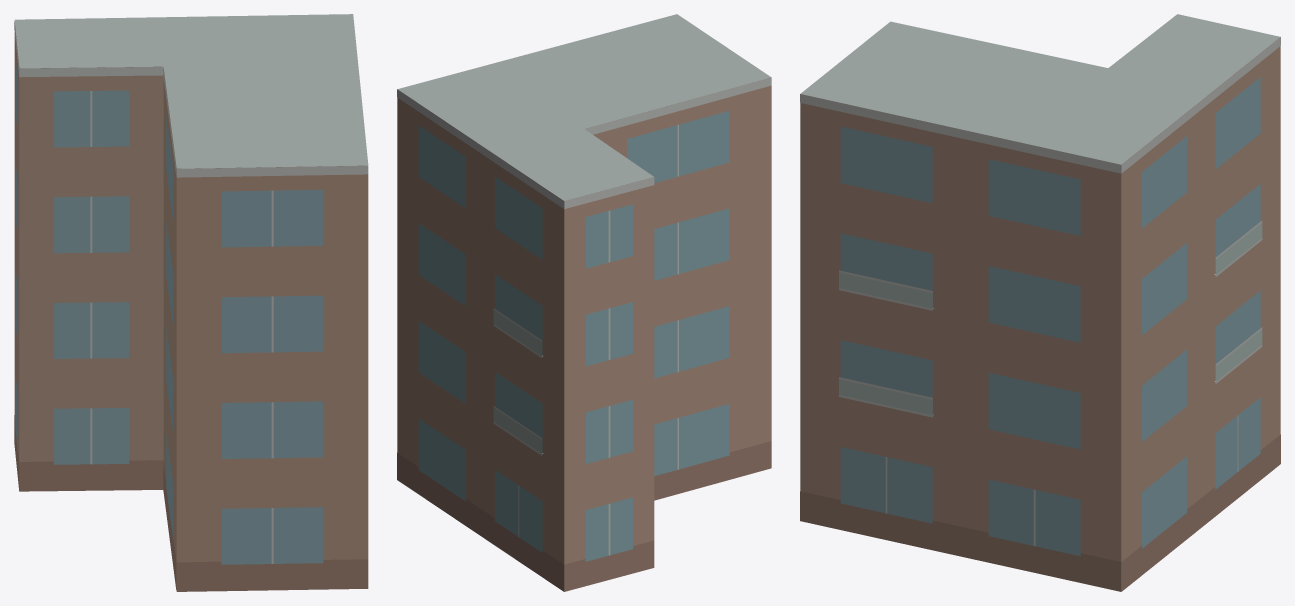
Rendered from survey-upis-32684311.glb.
The picture shows the model from 3 angles, left to right: view 1: azimuth 30°, elevation 25°; view 2: azimuth 150°, elevation 25°; view 3: azimuth 270°, elevation 25°; orthographic projection. The views are drawn at different scales.
Parts seen in each view (by area): view 1: survey-upis-32684311.tmp; view 2: survey-upis-32684311.tmp; view 3: survey-upis-32684311.tmp.
Boxes of the visible parts, x1,y1,x2,y2 form: survey-upis-32684311.tmp: [14, 14, 368, 591]; survey-upis-32684311.tmp: [397, 14, 771, 591]; survey-upis-32684311.tmp: [800, 14, 1280, 591].
Size of the model in its own units: 8.87 by 11.7 by 11.94.
